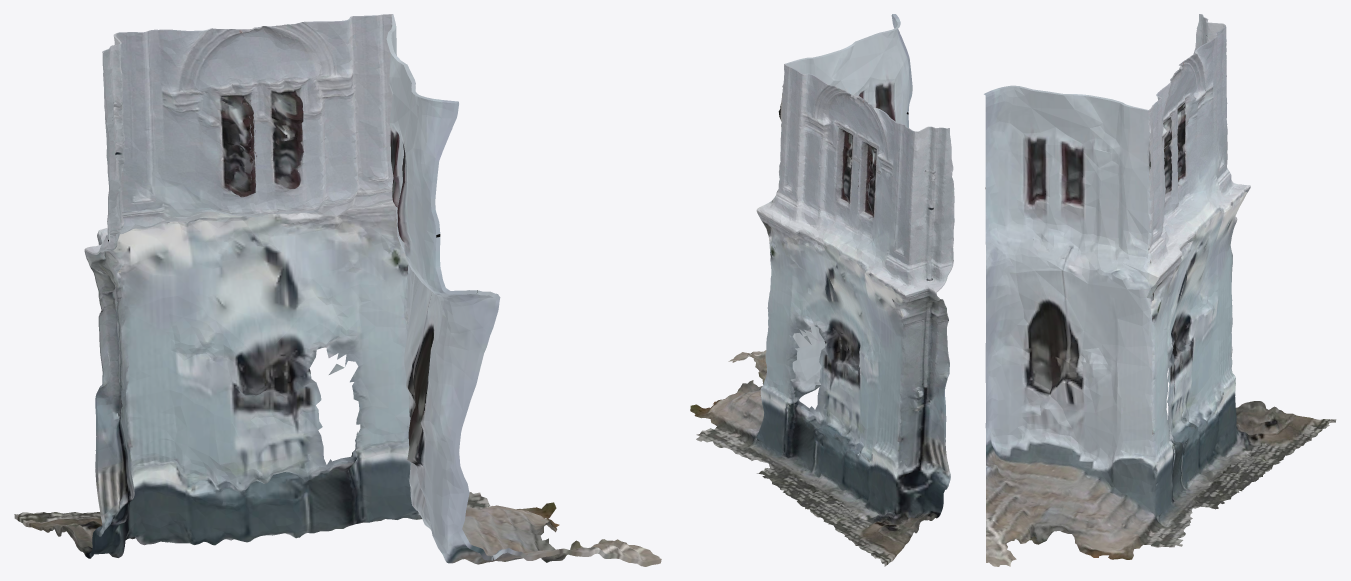
The picture shows the model from 3 angles, left to right: view 1: azimuth 30°, elevation 25°; view 2: azimuth 150°, elevation 25°; view 3: azimuth 270°, elevation 25°; orthographic projection. The views are drawn at different scales.
Visible parts, largest first — view 1: node_58; view 2: node_58; view 3: node_58.
Part boxes in pixels (left/top/right/bottom): node_58: left=14, top=14, right=661, bottom=566; node_58: left=690, top=14, right=954, bottom=566; node_58: left=984, top=14, right=1336, bottom=566.
Size of the model in its own units: 8.2 by 9.81 by 7.68.
1 material, 1 textured.
